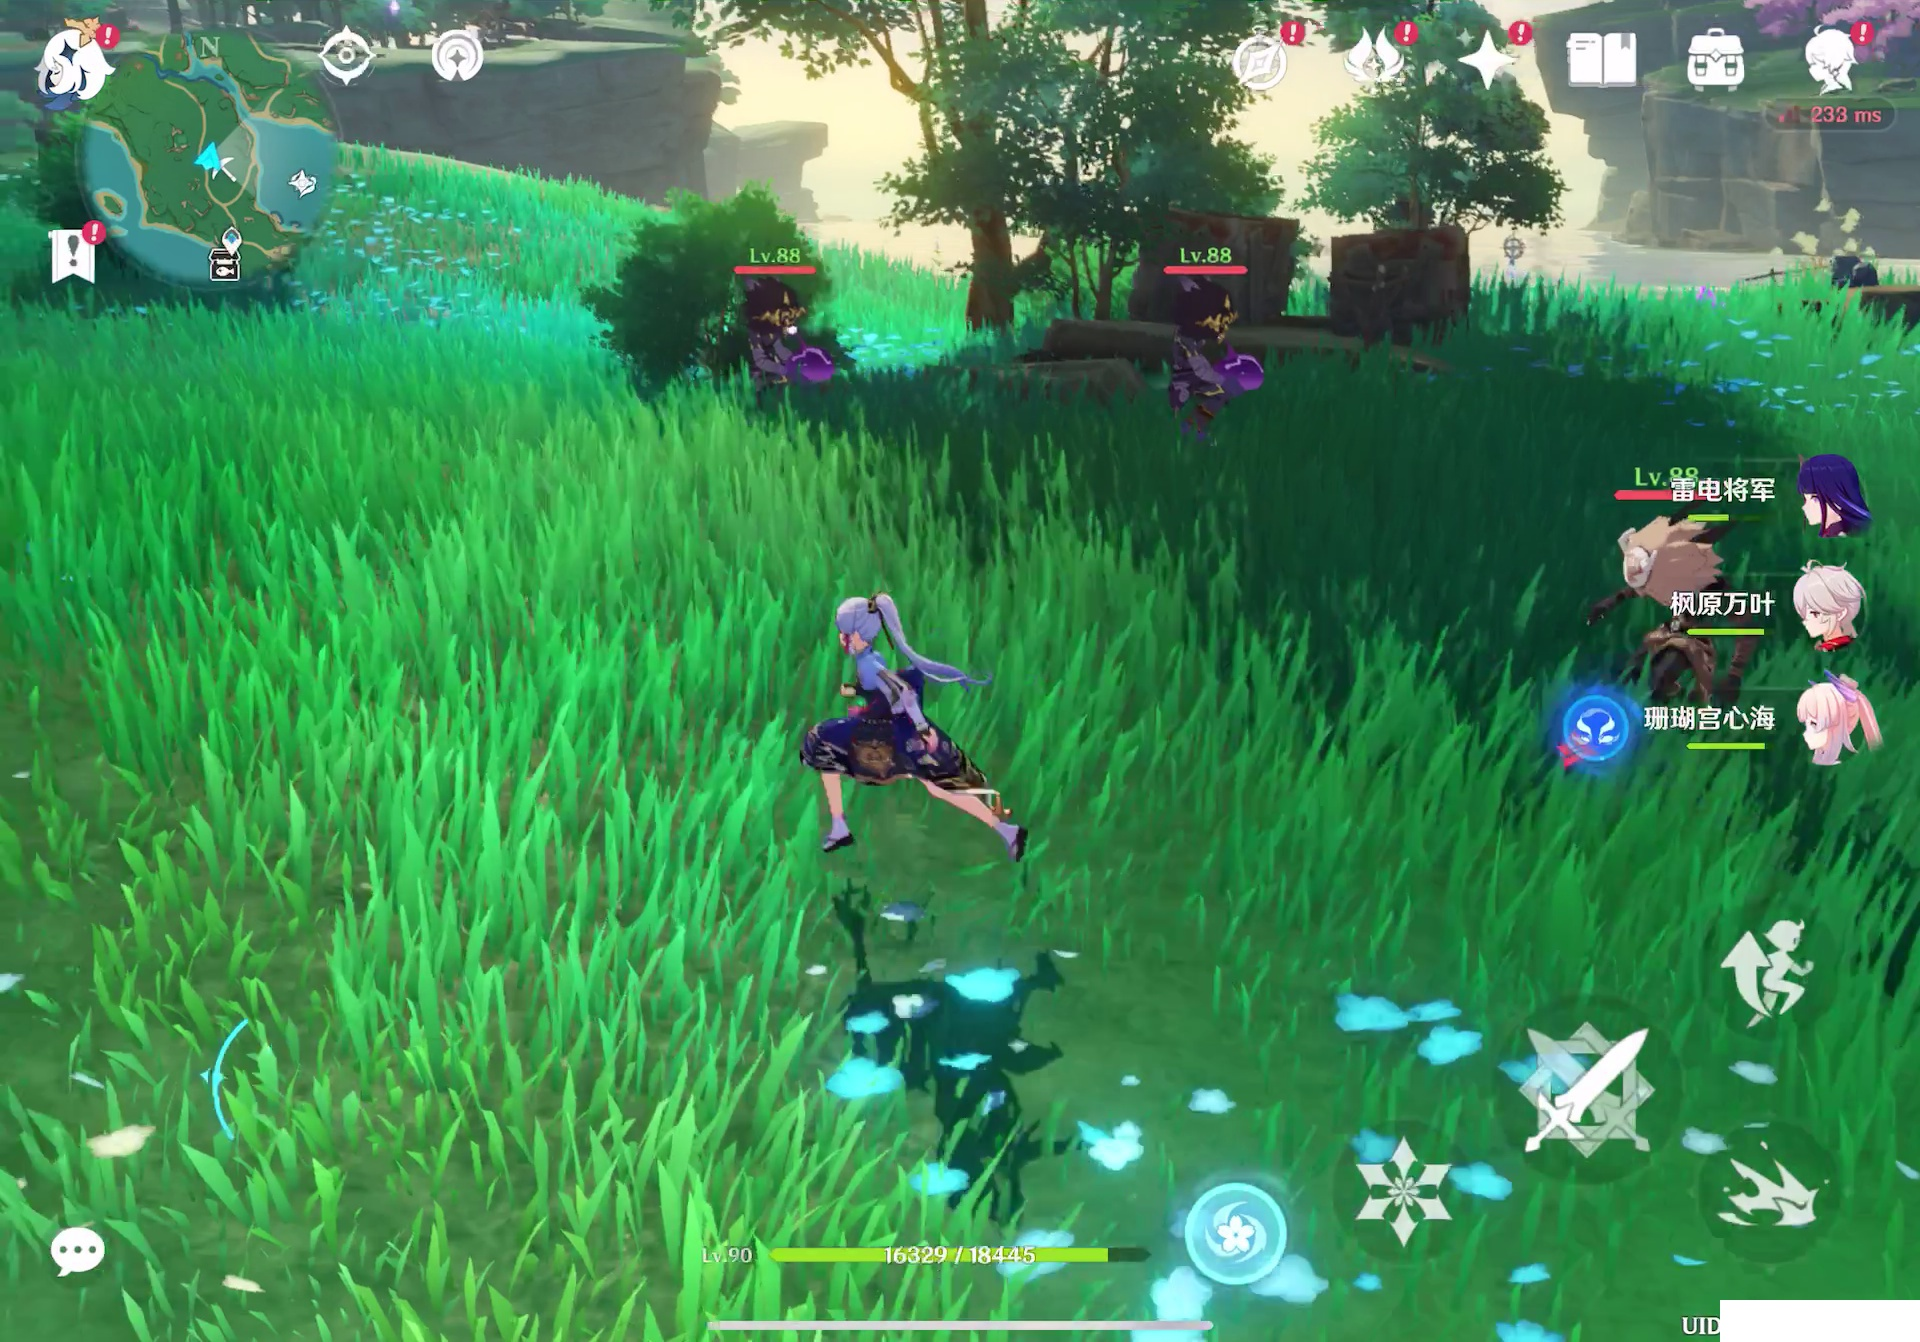丘丘人: (1161, 284, 1277, 446), (737, 283, 833, 404)
神里绫龟: (791, 581, 1037, 887)
